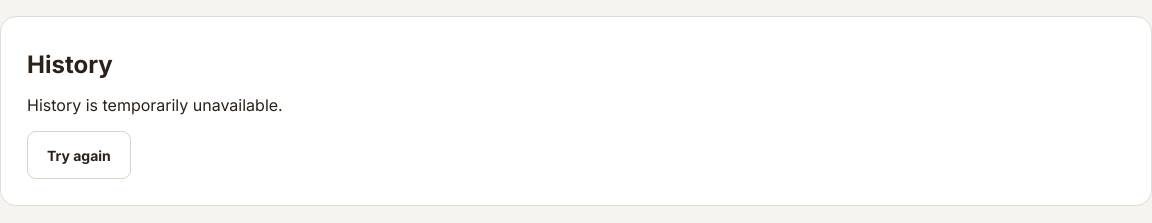
Test: TOM-21 capabilities and private history › loads history only through the exact agent id and supports retry
The image size is (1152, 223).
Expected: the message reads "History is temporarily unavailable.", x1=27 y1=95 x2=283 y2=115
What coordinates should you click on to do the following:
click the button "Try again"
I would click on:
 (79, 155)
Its box is x1=27 y1=131 x2=131 y2=179.
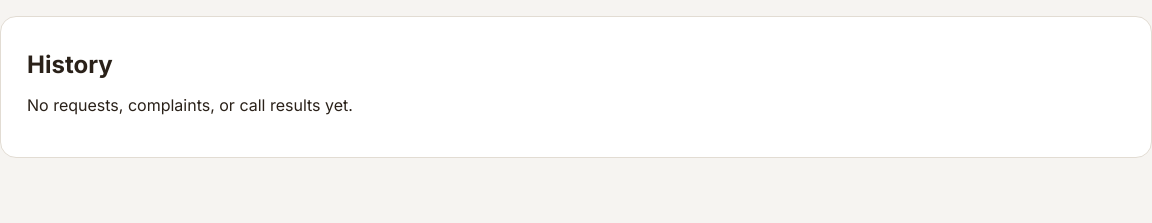
Expected: the text "No requests, complaints, or call results yet." is shown, x1=27 y1=95 x2=353 y2=115
